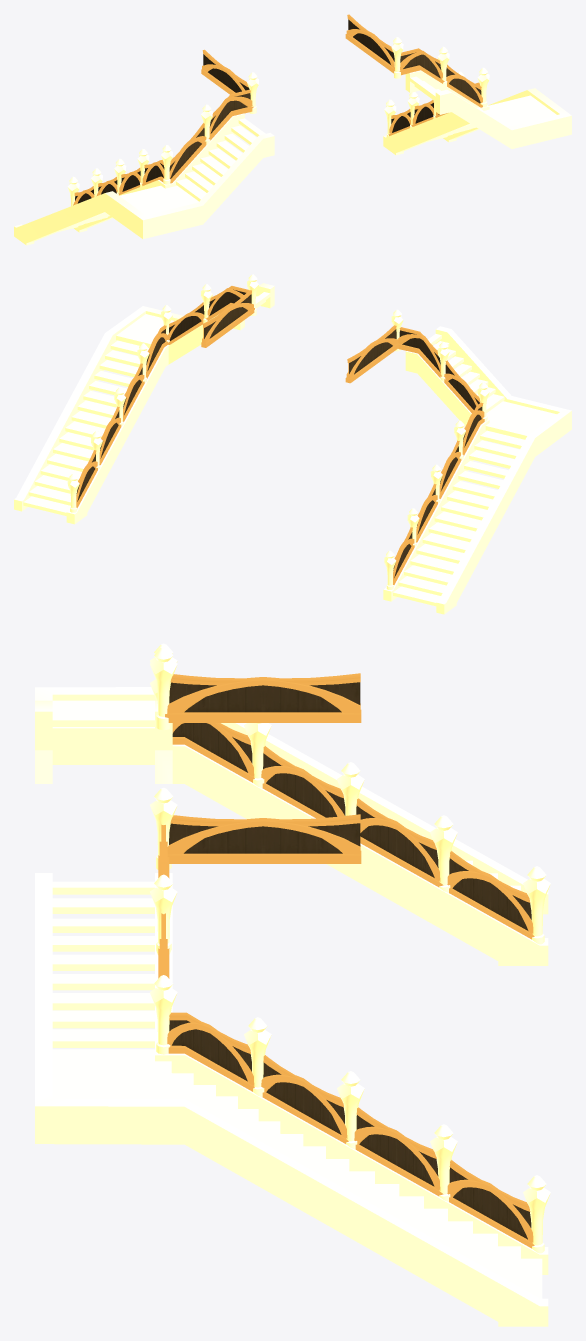
Rendered from Homeworld_Interior_Xm_Room_D_Stair_01_Vo.fbx.
3 renders of one model, top to bottom at view 1: azimuth 30°, elevation 25°; view 2: azimuth 150°, elevation 25°; view 3: azimuth 270°, elevation 25°, orthographic. The views are drawn at different scales.
Visible parts, largest first — view 1: Homeworld_Interior_Xm_Room_D_Stair_01_Vo; view 2: Homeworld_Interior_Xm_Room_D_Stair_01_Vo; view 3: Homeworld_Interior_Xm_Room_D_Stair_01_Vo.
Boxes of the visible parts, x1=… form: Homeworld_Interior_Xm_Room_D_Stair_01_Vo: x1=14, y1=14, x2=571, y2=245; Homeworld_Interior_Xm_Room_D_Stair_01_Vo: x1=14, y1=274, x2=571, y2=614; Homeworld_Interior_Xm_Room_D_Stair_01_Vo: x1=35, y1=643, x2=550, y2=1326.
Bounding box in the file's own units: 14.71 × 6.51 × 7.64.
